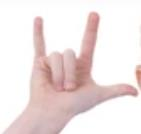back: (19, 8, 140, 122)
